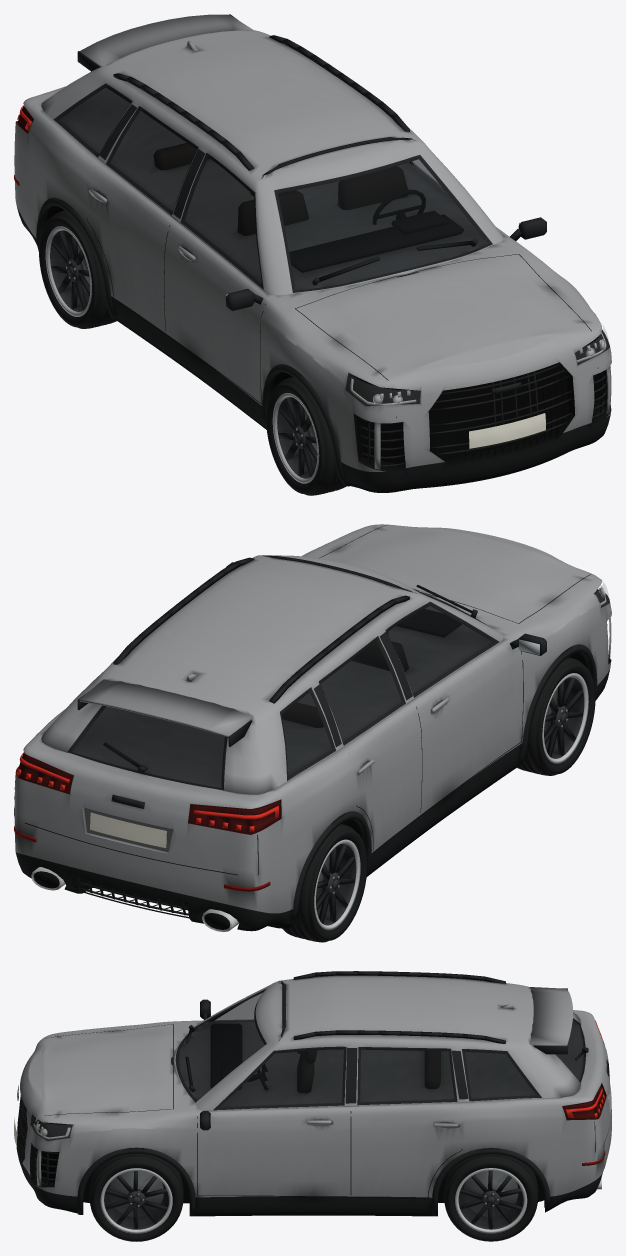
The model's file is audi-rs-q3.glb.
3 renders of one model, top to bottom at view 1: azimuth 30°, elevation 25°; view 2: azimuth 150°, elevation 25°; view 3: azimuth 270°, elevation 25°, orthographic. The views are drawn at different scales.
Parts seen in each view (by area): view 1: Coachwork, Body, Wheel_FR, Wheel_RR, Plate, Headlights; view 2: Coachwork, Body, Wheel_RR, Wheel_FR, Plate, Taillights; view 3: Coachwork, Body, Wheel_FL, Wheel_RL.
Boxes of the visible parts, x1,y1,x2,y2 form: Coachwork: (14,86,611,492); Body: (14,14,611,486); Wheel_FR: (266,377,346,495); Wheel_RR: (39,210,116,328); Plate: (469,413,545,448); Headlights: (350,333,606,405); Coachwork: (14,524,611,931); Body: (14,524,611,931); Wheel_RR: (282,824,367,942); Wheel_FR: (517,657,595,775); Plate: (90,812,166,848); Taillights: (17,752,278,831); Coachwork: (16,1010,611,1216); Body: (17,971,611,1216); Wheel_FL: (89,1153,183,1241); Wheel_RL: (444,1154,538,1241).
Size of the model in its own units: 2.16 by 1.6 by 4.52.
